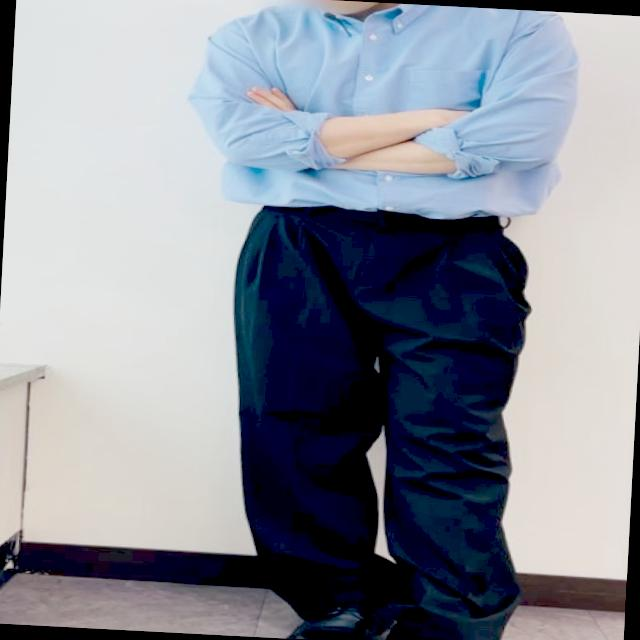shirt: (189, 0, 586, 230)
slacks: (217, 198, 542, 640)
